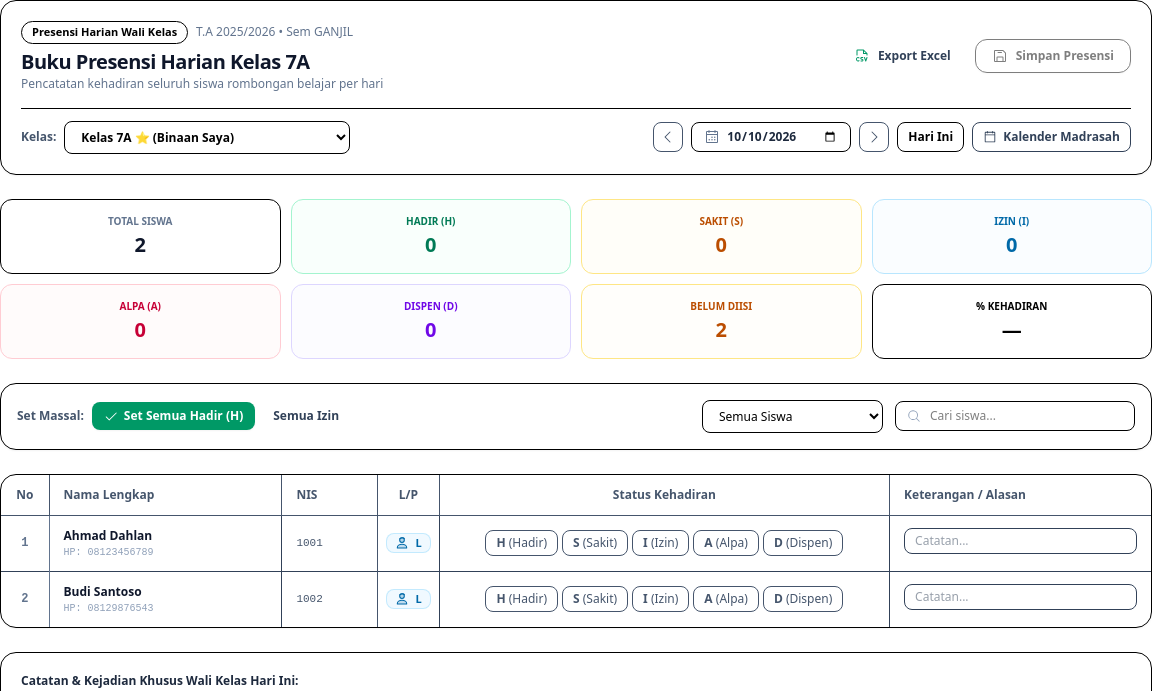
Test case: HomeroomDailyAttendancePage UX & Initial-State Implementation › 7. calculates unrecorded count accurately as students are marked
Expected: the text "Ahmad Dahlan" is shown, [64,526,152,544]
Expected: the text "2" below "Belum Diisi" is shown, [716,316,727,342]
# Mark Ahmad as SICK
Click the button "S (Sakit)" in the row of "Ahmad Dahlan": (595, 543) [562,530,628,556]
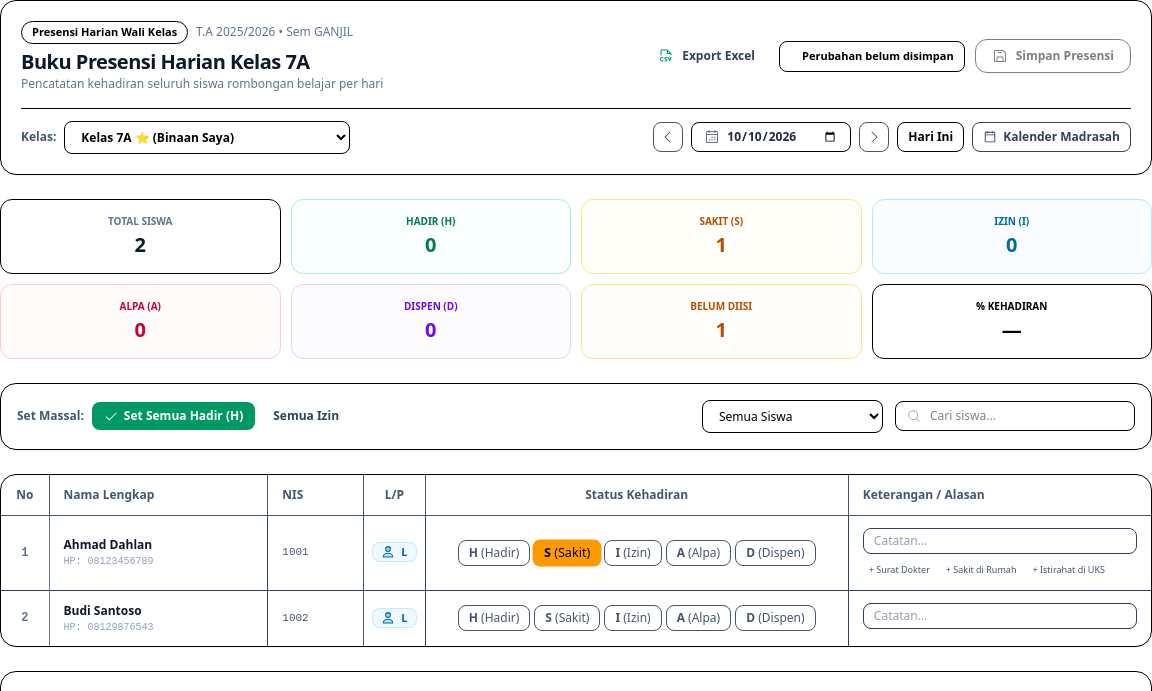
Now the text "1" below "Belum Diisi" is shown, box [716,316,727,342]
Now the text "1" below "Sakit (S)" is shown, box [716,230,727,258]
